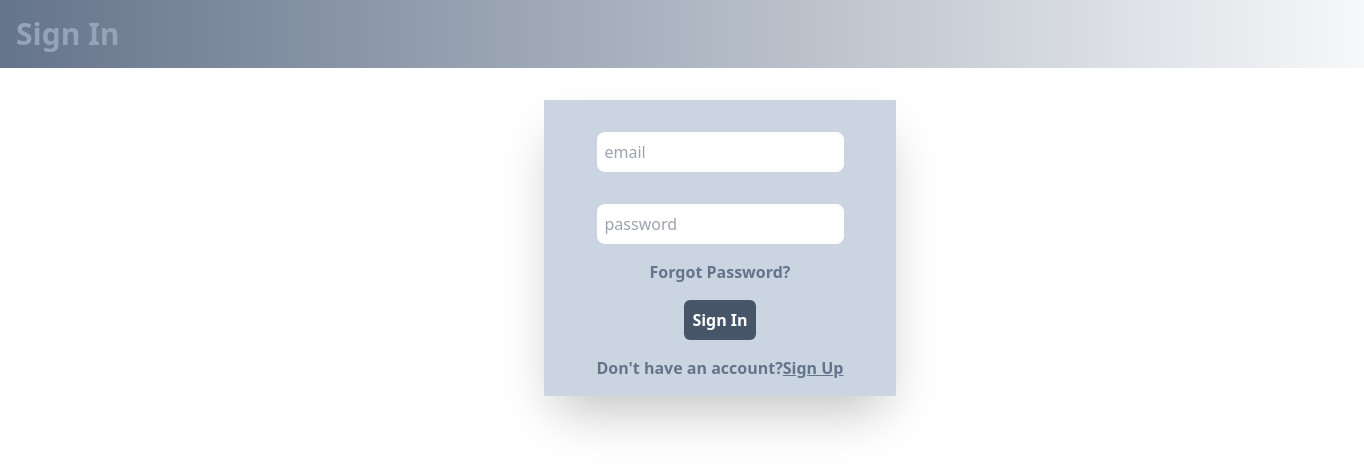
Test case: Body Component › displays validation error
This screenshot has width=1364, height=475.
Type "test@example.com" into the field with placeholder "email" at (720, 152), box [596, 132, 844, 172]
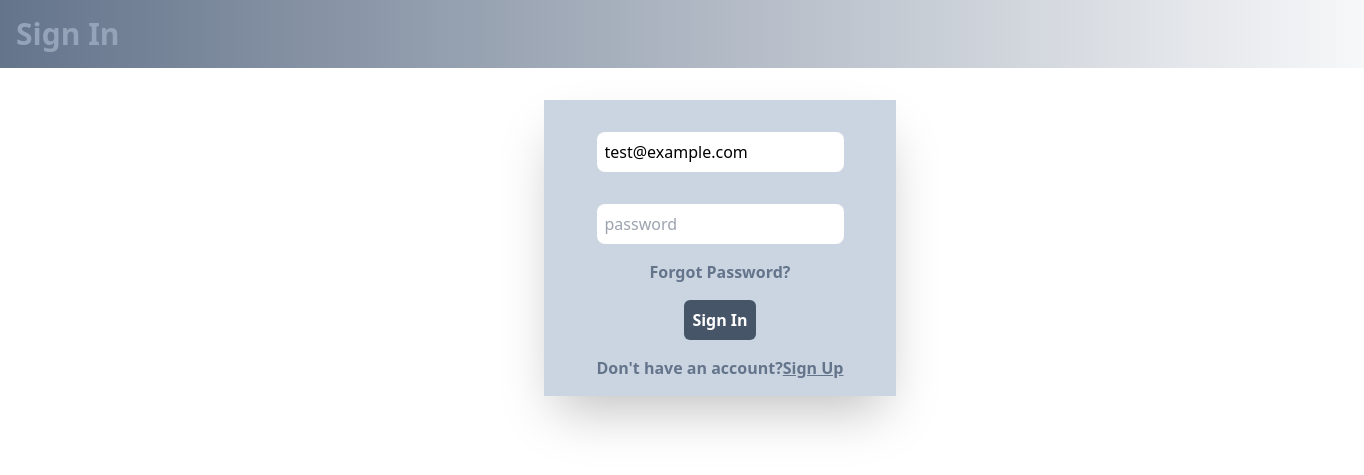
Type "password123" into the password field with placeholder "password" at (720, 224), box [596, 204, 844, 244]
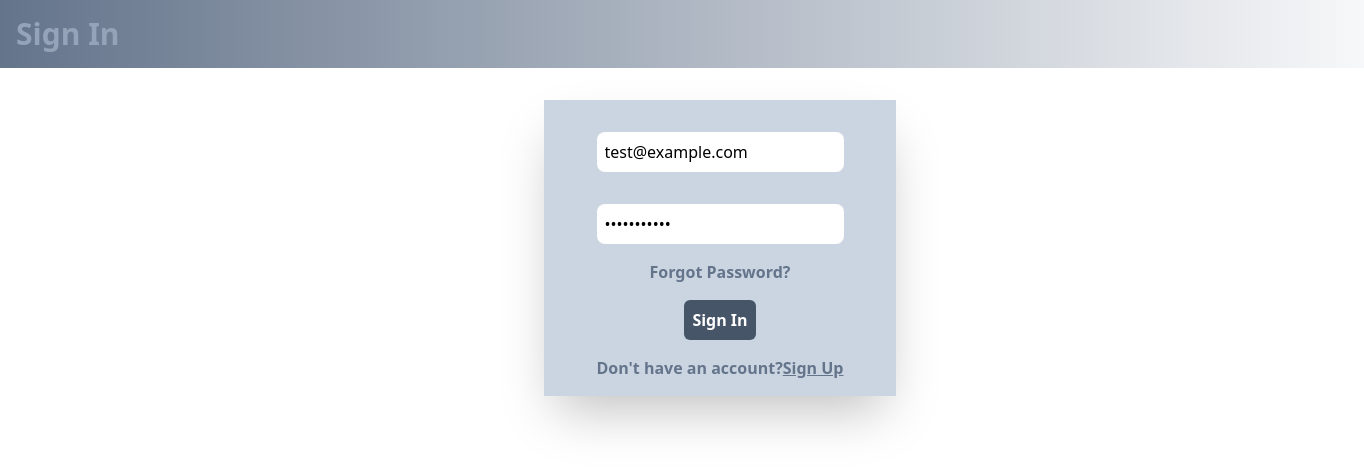
Click the button "Sign In" at (720, 320), box [684, 300, 756, 340]
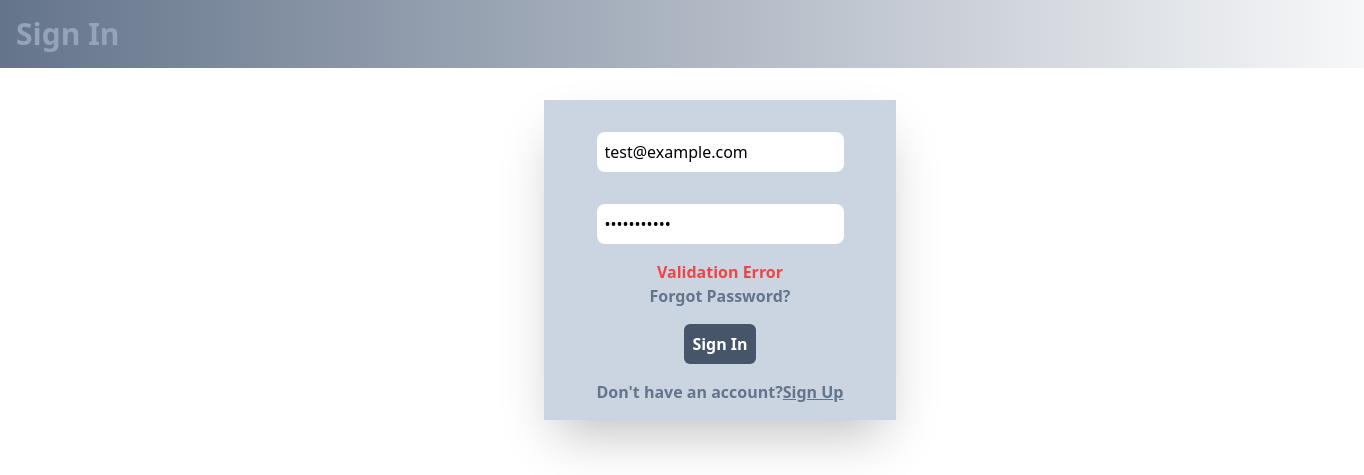
Result: the text "Validation Error" is shown at [657, 260, 783, 284]
